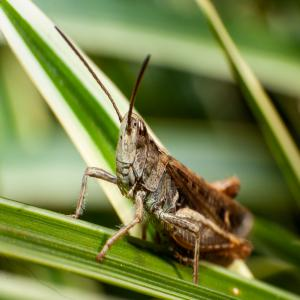locust: (86, 69, 252, 276)
